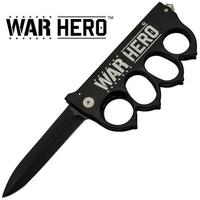knife: (1, 1, 171, 199)
